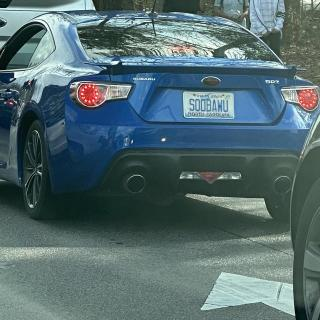license: (184, 92, 236, 120)
